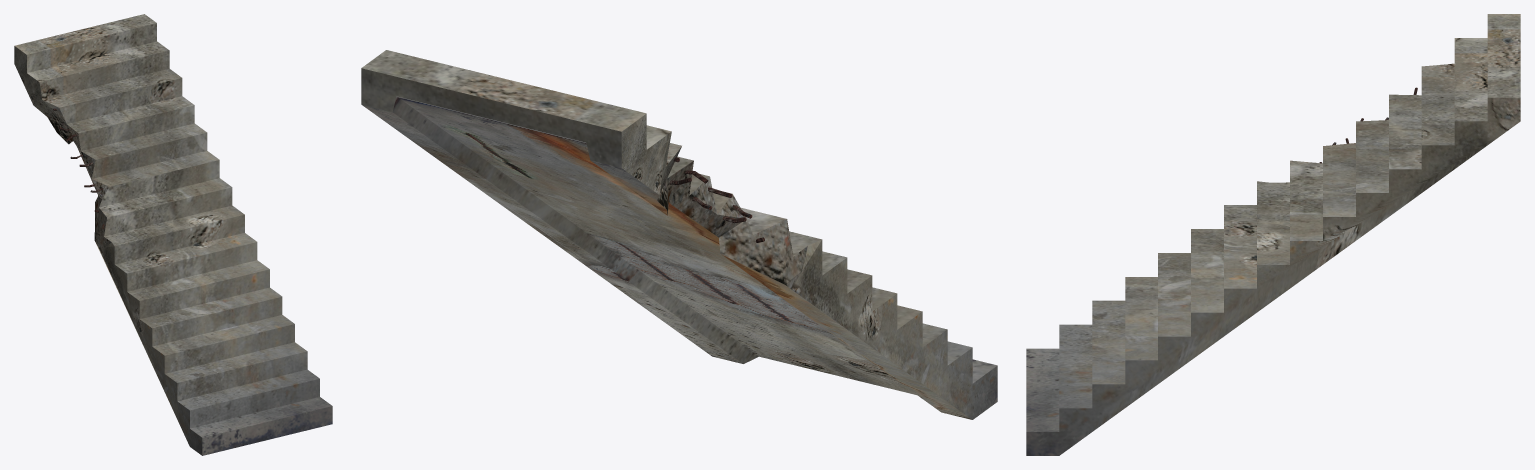
The model's file is L_house_staire.FBX.
3 renders of one model, left to right at view 1: azimuth 30°, elevation 25°; view 2: azimuth 150°, elevation 25°; view 3: azimuth 270°, elevation 25°, orthographic. The views are drawn at different scales.
Parts seen in each view (by area): view 1: stair; view 2: stair; view 3: stair.
Part boxes in pixels (<box>): stair: <box>14,14,332,455</box>; stair: <box>361,50,997,419</box>; stair: <box>1026,14,1520,455</box>.
Size of the model in its own units: 1.51 by 3 by 3.75.
